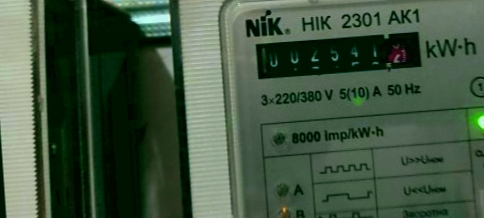0: (264, 48, 279, 70), (285, 44, 299, 66)
1: (366, 37, 378, 61)
2: (305, 42, 321, 65)
4: (346, 38, 358, 60)
5: (325, 41, 340, 64)
6: (389, 52, 401, 64)
screen: (240, 21, 433, 88)
